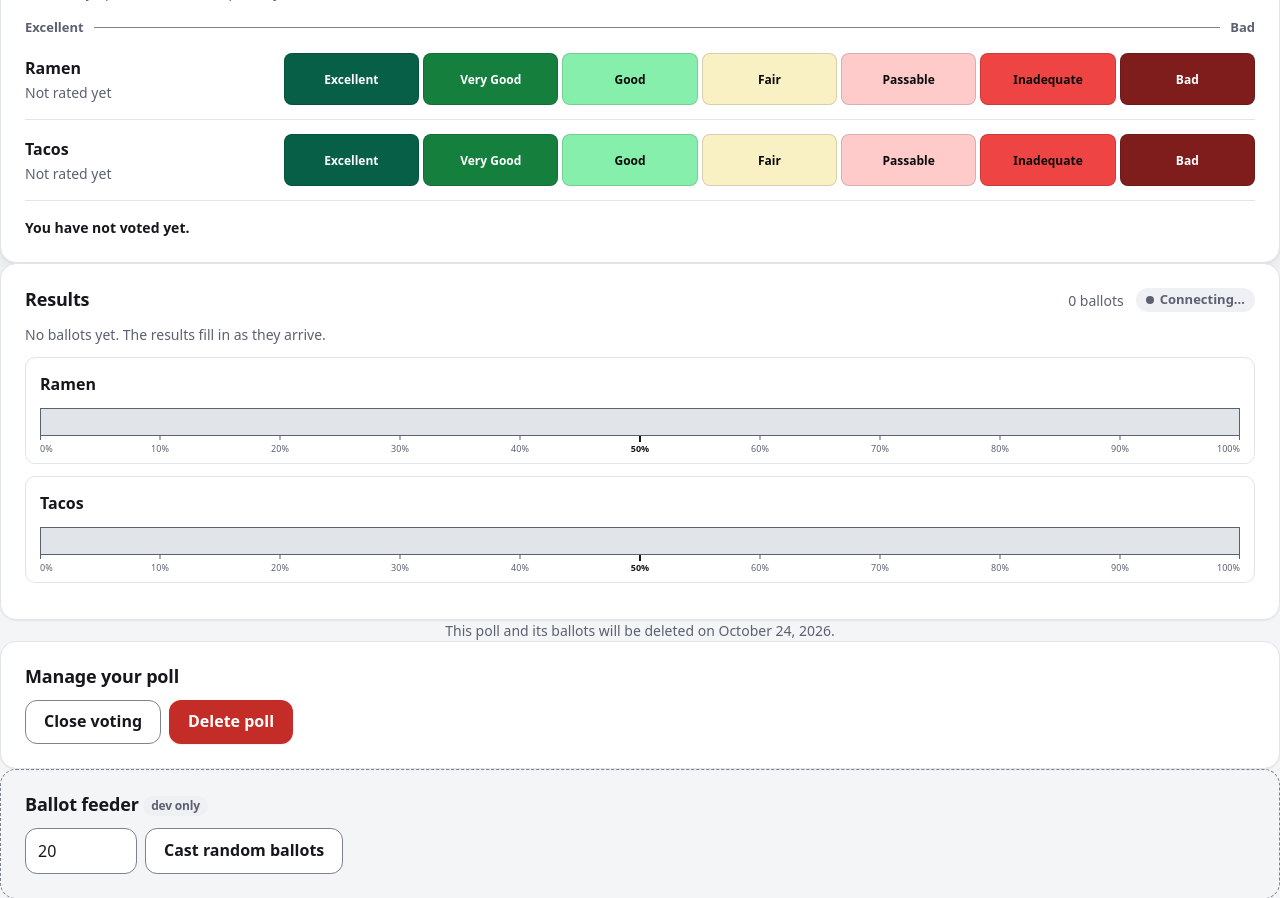
Test case: managing a poll › keeps the poll when the creator thinks better of it
(page scrolled)
Click the button "Delete poll". click: x=231, y=722
box: [169,700,293,744]
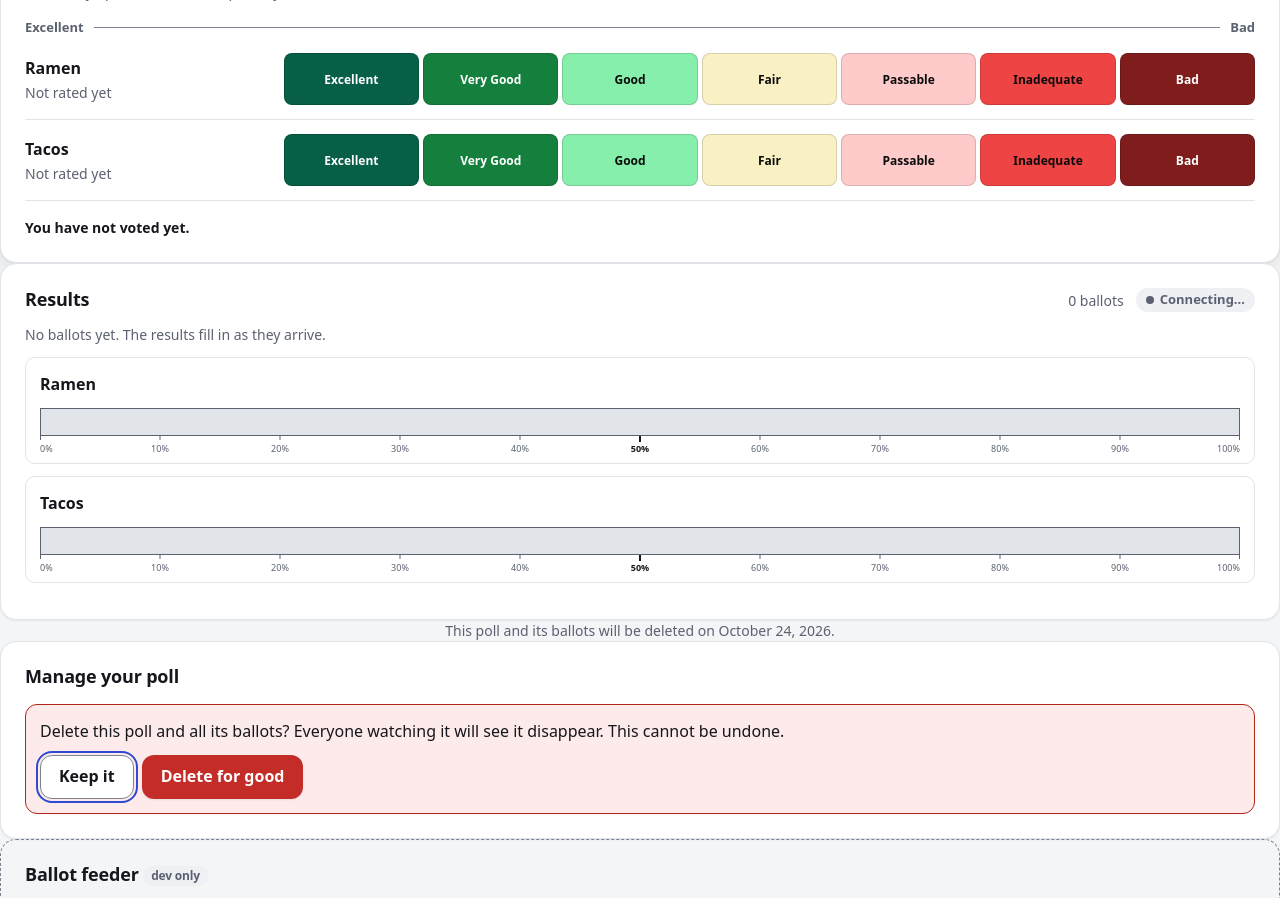
Click the button "Keep it". click: x=87, y=777
box: [40,755,134,799]
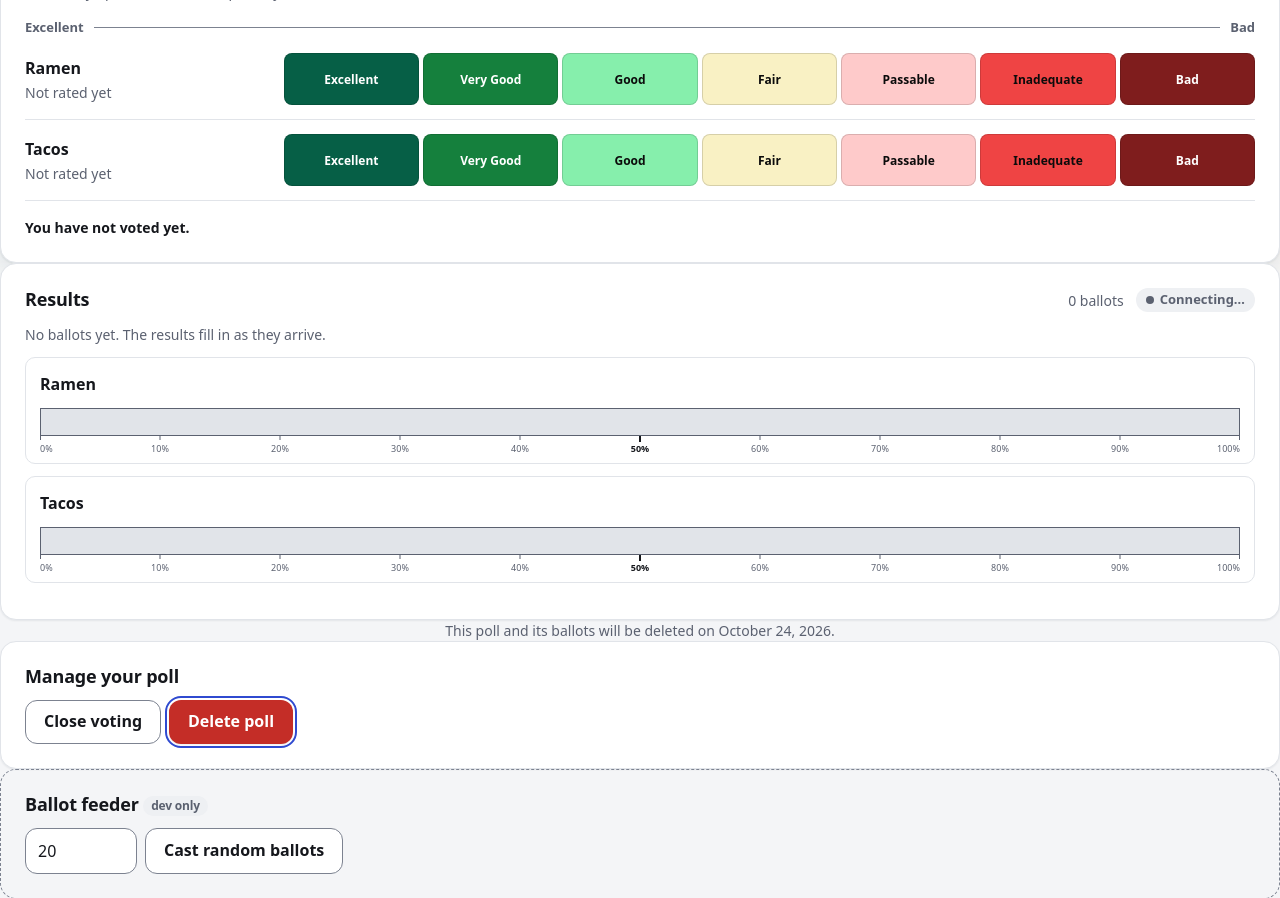
Check: the button "Delete poll" is shown, box [169,700,293,744]
